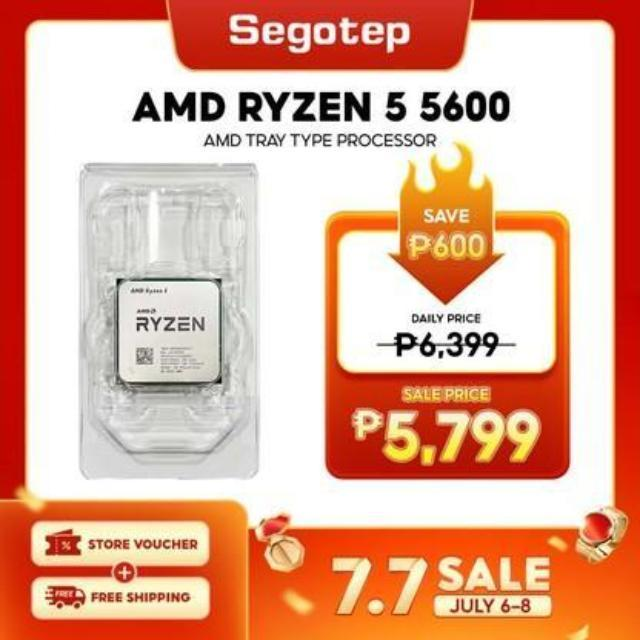CPU: (120, 280, 223, 382)
